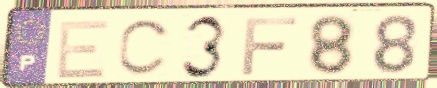3: (177, 13, 237, 81)
8: (304, 12, 358, 79), (371, 13, 421, 76)
C: (115, 17, 175, 79)
E: (53, 17, 112, 81)
F: (239, 15, 300, 77)
